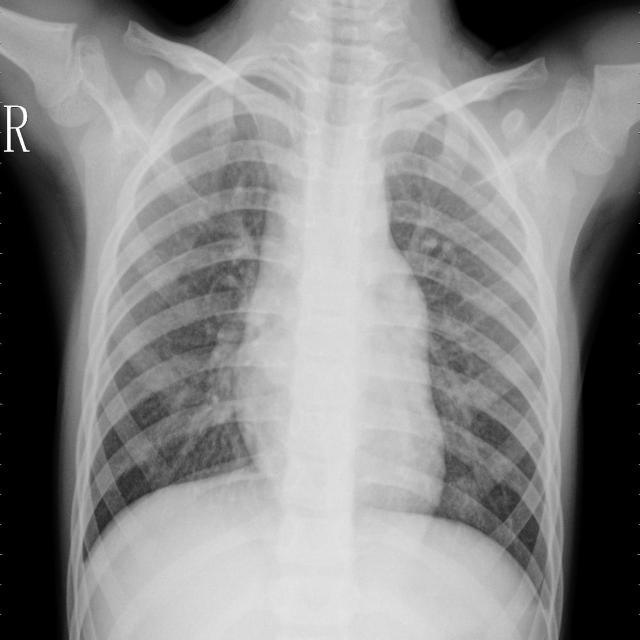low-pneumonia: (413, 191, 506, 466), (163, 309, 240, 472)
